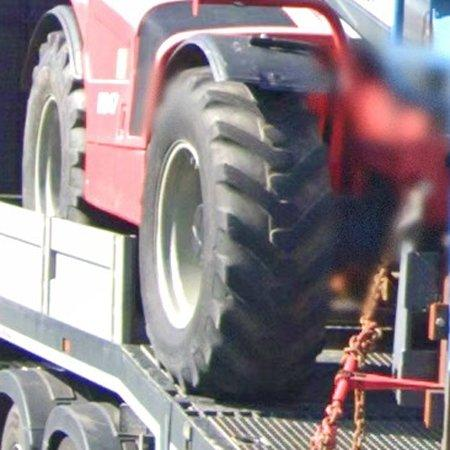tractors: (23, 0, 450, 393)
